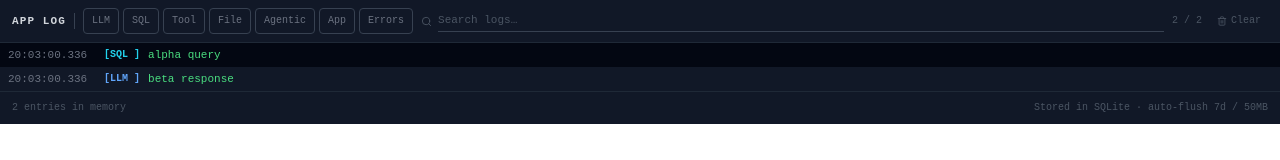
Test: LogPanel › search input › filters entries by message text
Type "alpha" into the field with placeholder "Search logs…" at x=801, y=21, box [438, 10, 1164, 32]
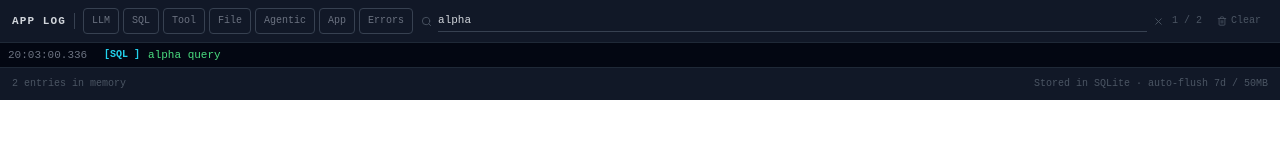
Expected: the text "alpha query" is shown, [148, 49, 221, 61]
Expected: the text "beta response" is gone
